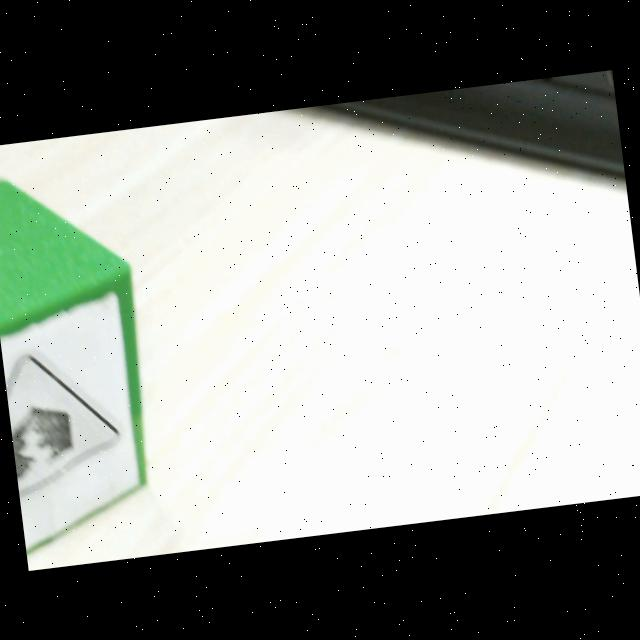Earthquake: (2, 344, 125, 486), (5, 354, 121, 497)
